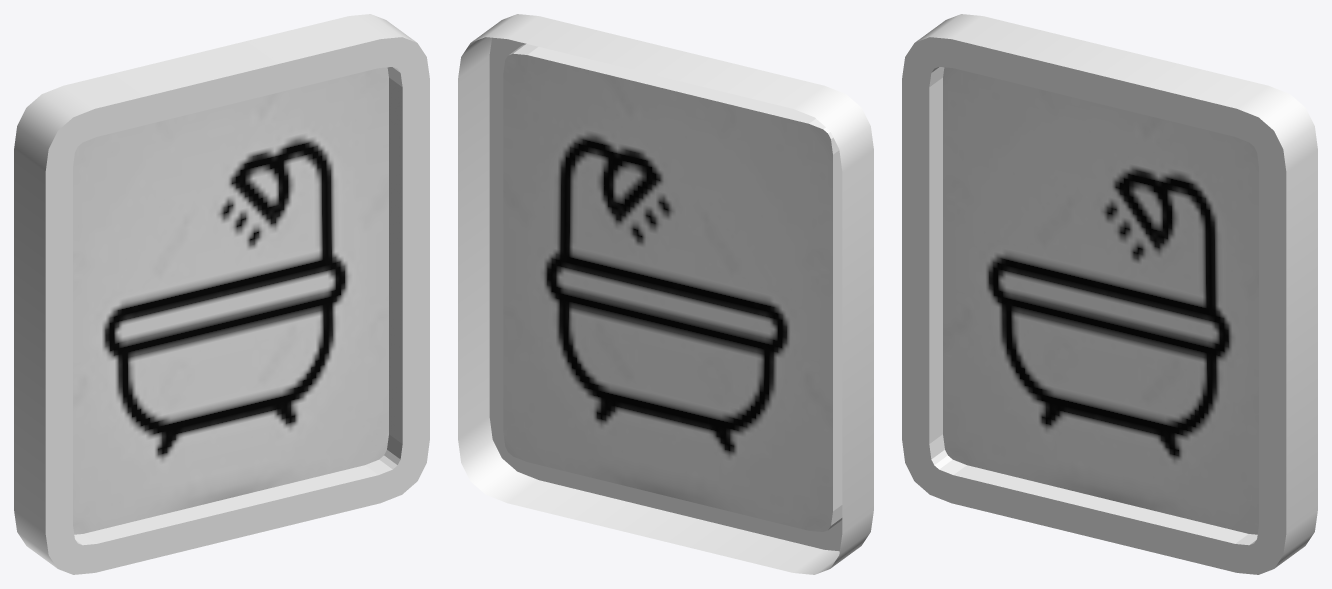
Rendered from Bain.FBX.
The picture shows the model from 3 angles, left to right: view 1: azimuth 30°, elevation 25°; view 2: azimuth 150°, elevation 25°; view 3: azimuth 330°, elevation 25°; orthographic projection.
Visible parts, largest first — view 1: Bain; view 2: Bain; view 3: Bain.
Part boxes in pixels (box(x1,y1,x2,y2)): Bain: box(14, 14, 429, 574); Bain: box(458, 14, 873, 574); Bain: box(902, 14, 1317, 574).
Size of the model in its own units: 26 by 30 by 3.7.
1 material, 1 textured.
